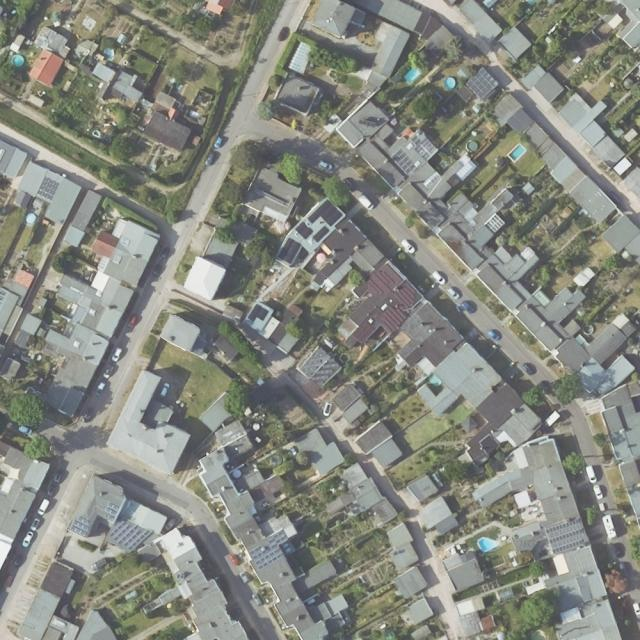PV: (249, 529, 289, 571), (110, 521, 151, 549), (467, 67, 498, 97), (411, 134, 437, 159), (549, 527, 585, 545), (392, 148, 417, 173), (36, 176, 60, 201), (546, 517, 581, 534), (552, 538, 585, 553), (71, 516, 91, 537), (105, 502, 119, 521), (359, 119, 375, 128)
